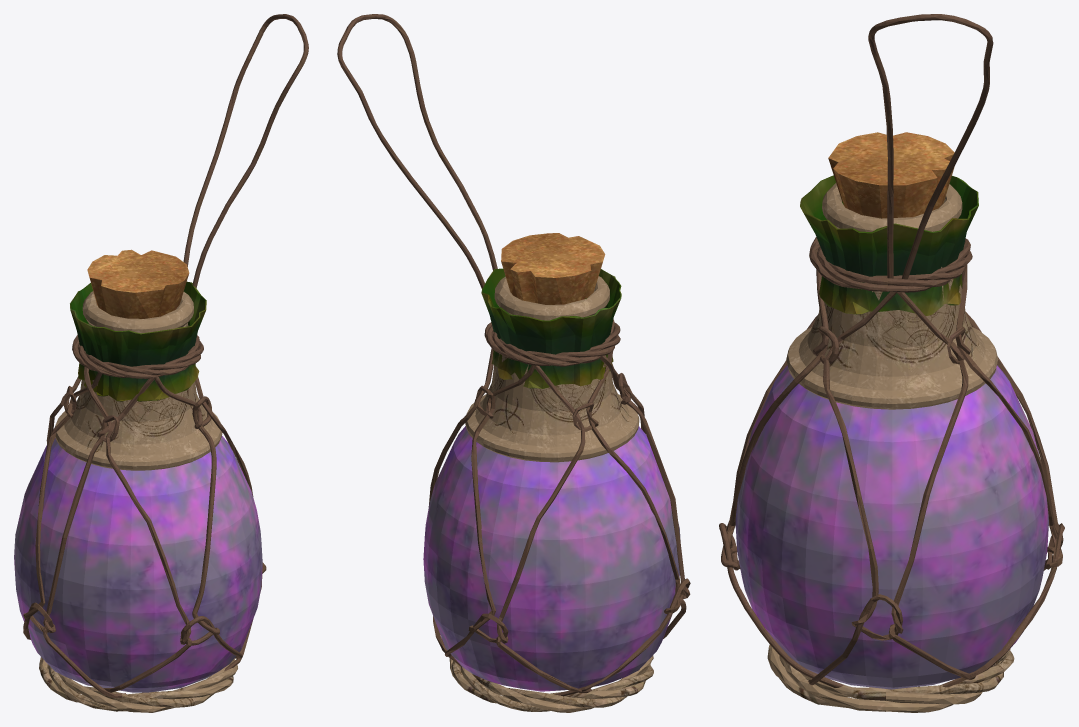
File: pocao-magica.glb
3 renders of one model, left to right at view 1: azimuth 30°, elevation 25°; view 2: azimuth 150°, elevation 25°; view 3: azimuth 270°, elevation 25°, orthographic. The views are drawn at different scales.
Size of the model in its own units: 0.0997 by 0.1963 by 0.0812.
16 materials, 15 textured.
